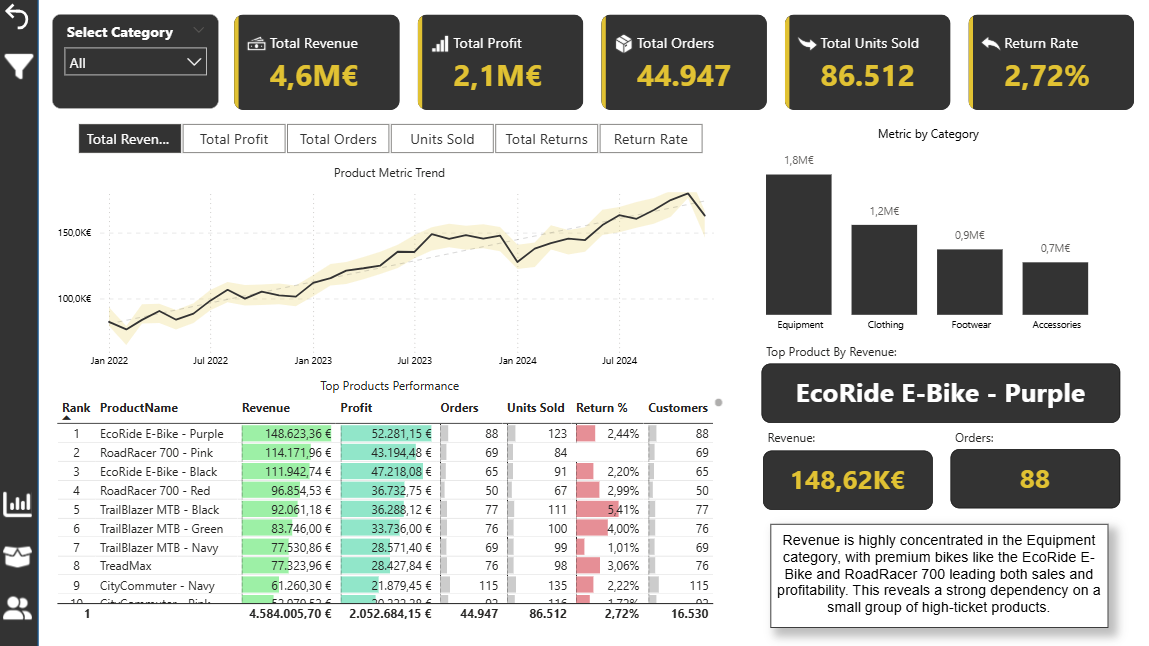

Layout of this report page (visuals, bound fields, positions):
{"tool":"powerbi","page":{"name":"Product Analysis","canvas":[1280,720],"ordinal":1},"visuals":[{"type":"shape","box":[0,0,45,720],"z":0},{"type":"cardVisual","fields":{"Data":["DAX Measures.Total Revenue","DAX Measures.Total Profit","DAX Measures.Total Orders","DAX Measures.Quantity Sold","DAX Measures.Return Rate"]},"box":[245.7,0,1034.3,140],"z":1000},{"type":"tableEx","title":"Top Products Performance","fields":{"Values":["DAX Measures.Product Rank(revenue)","Dim_Product.ProductName","DAX Measures.Total Revenue","DAX Measures.Total Profit","DAX Measures.Total Orders","DAX Measures.Quantity Sold","DAX Measures.Return Rate","DAX Measures.Total Customers"]},"box":[60.7,420.3,750.3,277.1],"z":2000},{"type":"slicer","fields":{"Values":["Parameter.Parameter"]},"box":[60,128.6,750,54.3],"z":3000},{"type":"slicer","fields":{"Values":["Dim_Product_Category.CategoryName"]},"box":[60,16.7,185.6,105.6],"z":4000},{"type":"lineChart","title":"Product Metric Trend","fields":{"Y":["DAX Measures.Total Revenue"],"Category":["Dim_Calendar.Start of Month"]},"box":[60,182.9,750,235.7],"z":5000},{"type":"lineClusteredColumnComboChart","title":"Metric by Category","fields":{"Y":["DAX Measures.Total Revenue"],"Category":["Dim_Product_Category.CategoryName"]},"box":[810,140,447.1,238.6],"z":6000},{"type":"textbox","box":[848.1,377.1,227.1,31.4],"z":7000},{"type":"card","fields":{"Values":["Min(Dim_Product.ProductName)"]},"box":[848.1,405.7,398.6,65.7],"z":8000},{"type":"textbox","box":[849.5,472.1,227.1,31.4],"z":9000},{"type":"card","fields":{"Values":["DAX Measures.Total Revenue"]},"box":[849.6,501,188.6,65.7],"z":10000},{"type":"textbox","box":[1058.1,471.9,188.6,30],"z":11000},{"type":"card","fields":{"Values":["DAX Measures.Total Orders"]},"box":[1058.1,500.4,188.6,65.7],"z":12000},{"type":"textbox","box":[858.3,583.3,375,115],"z":13000},{"type":"actionButton","box":[1.4,0,44.3,38.6],"z":14000},{"type":"actionButton","box":[1.4,657.1,45.7,40],"z":15000},{"type":"actionButton","box":[1.4,600,44.3,40],"z":16000},{"type":"actionButton","box":[1.4,541.4,45.7,40],"z":17000},{"type":"actionButton","box":[2.9,55,44.3,40],"z":18000}]}

Visuals, with their boxes on the page's 1280x720 design canvas (x1, y1, x2, y2). These are canvas units, not pixel positions in the 1149x646 screenshot, which may show the page scaled, cropped or inside an application window:
shape: box=[0, 0, 45, 720]
cardVisual - DAX Measures.Total Revenue x DAX Measures.Total Profit: box=[246, 0, 1280, 140]
"Top Products Performance" tableEx: box=[61, 420, 811, 697]
slicer - Parameter.Parameter: box=[60, 129, 810, 183]
slicer - Dim_Product_Category.CategoryName: box=[60, 17, 246, 122]
"Product Metric Trend" lineChart: box=[60, 183, 810, 419]
"Metric by Category" lineClusteredColumnComboChart: box=[810, 140, 1257, 379]
textbox: box=[848, 377, 1075, 408]
card - Min(Dim_Product.ProductName): box=[848, 406, 1247, 471]
textbox: box=[850, 472, 1077, 504]
card - DAX Measures.Total Revenue: box=[850, 501, 1038, 567]
textbox: box=[1058, 472, 1247, 502]
card - DAX Measures.Total Orders: box=[1058, 500, 1247, 566]
textbox: box=[858, 583, 1233, 698]
actionButton: box=[1, 0, 46, 39]
actionButton: box=[1, 657, 47, 697]
actionButton: box=[1, 600, 46, 640]
actionButton: box=[1, 541, 47, 581]
actionButton: box=[3, 55, 47, 95]
